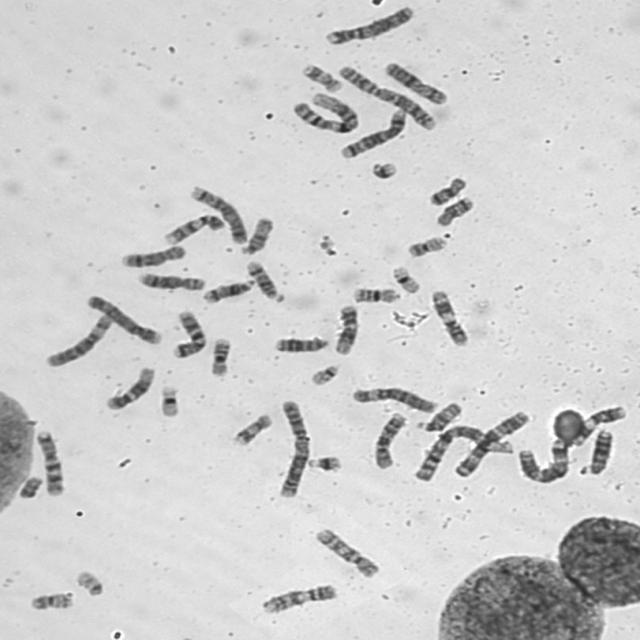A1: (410, 420, 522, 482), (289, 90, 361, 134)
A2: (334, 63, 438, 132), (272, 396, 312, 500)
A3: (451, 408, 531, 477), (514, 438, 570, 484)
B4: (83, 291, 164, 347), (321, 3, 417, 47)
B5: (186, 183, 250, 245), (338, 106, 409, 160)
C10: (311, 525, 382, 580), (370, 409, 410, 472)
C11: (428, 288, 470, 348), (570, 403, 627, 447)
C12: (102, 364, 156, 412), (330, 303, 361, 356)
C6: (42, 312, 116, 368), (348, 384, 438, 414)
C7: (33, 427, 67, 498), (169, 308, 207, 360)
C8: (116, 242, 188, 269), (134, 270, 207, 292)
C9: (257, 581, 340, 616), (160, 212, 228, 246)
D13: (576, 426, 614, 476), (270, 333, 330, 354)
D14: (242, 258, 286, 304), (198, 276, 257, 305)
D15: (414, 398, 464, 433), (237, 214, 274, 256)
E16: (207, 335, 234, 378), (348, 284, 402, 304)
E17: (228, 411, 275, 448), (298, 60, 345, 94)
E18: (425, 175, 469, 208), (431, 195, 476, 227)
F19: (389, 263, 422, 295), (156, 383, 184, 418)
F20: (403, 234, 448, 258), (27, 590, 76, 612)
G21: (304, 452, 344, 475), (368, 159, 399, 181)
G22: (72, 567, 105, 598), (306, 361, 343, 386)
X: (382, 58, 449, 106)
Y: (15, 473, 45, 500)
